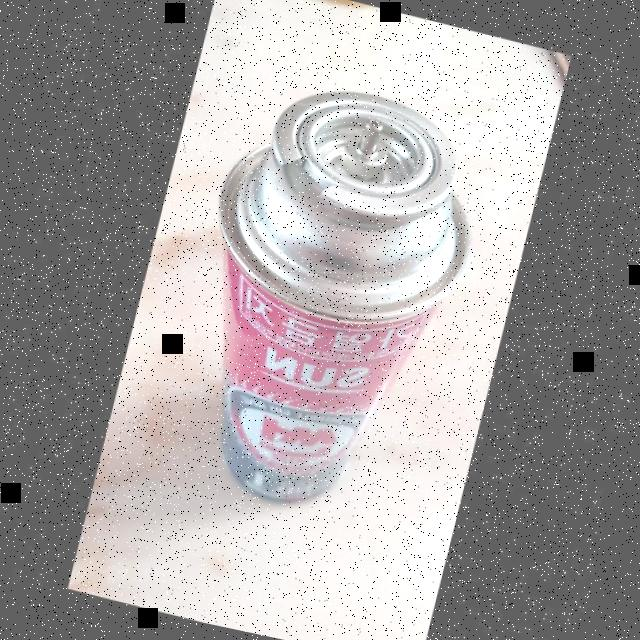chemical_spray_can: (130, 48, 513, 560)
